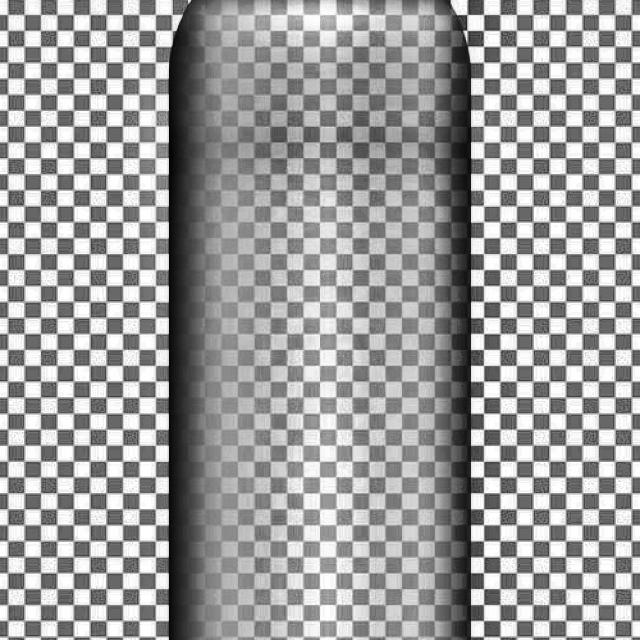bottle: (166, 0, 474, 640)
